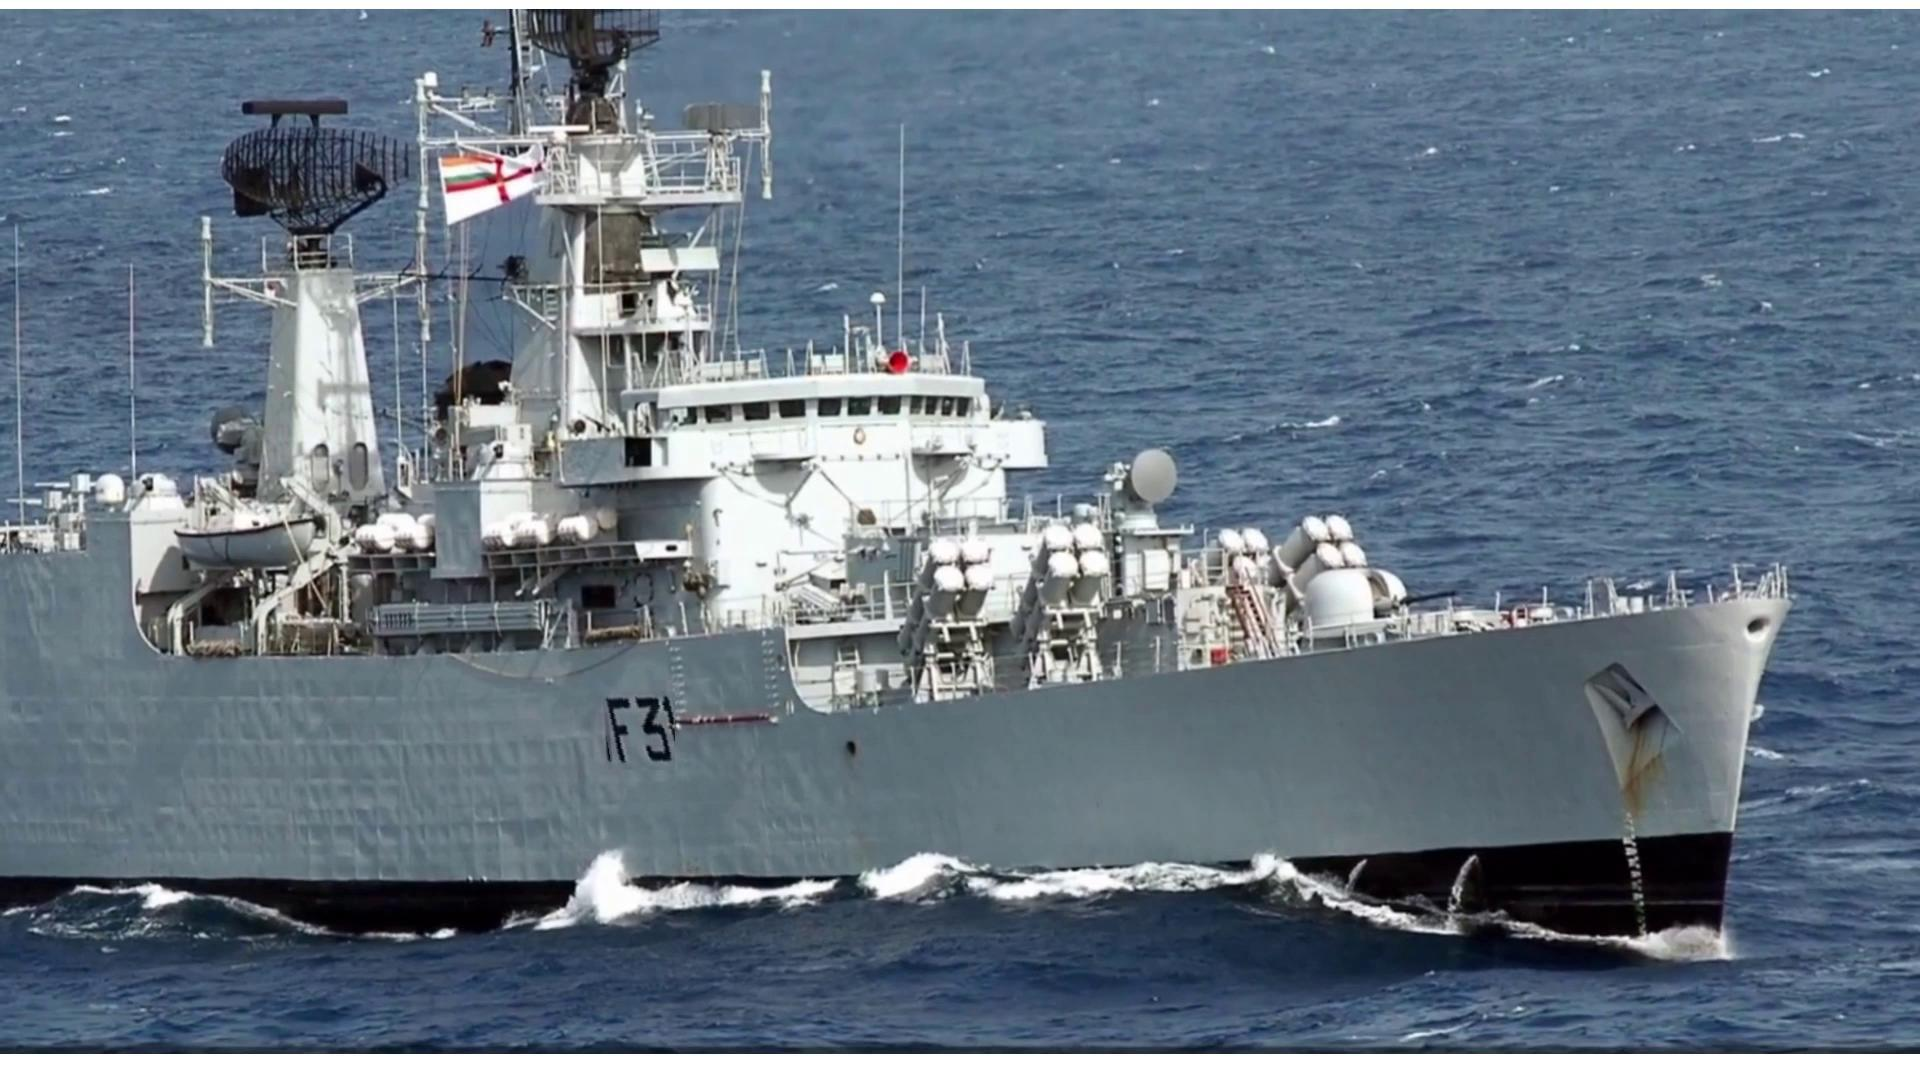OCR: (597, 680, 675, 770)
